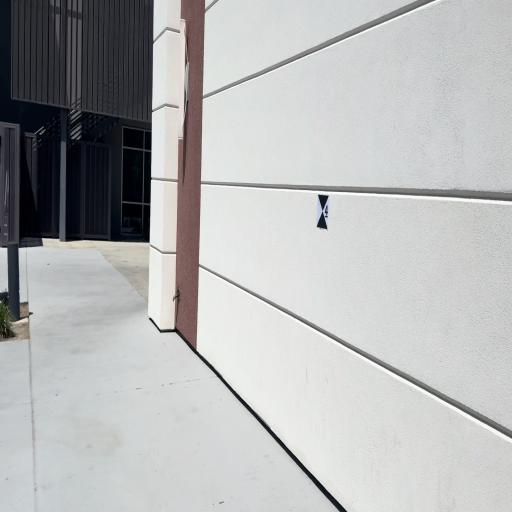target4: (316, 194, 329, 229)
